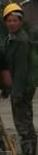gloves: (0, 90, 5, 106)
hard-hat: (0, 40, 15, 70)
